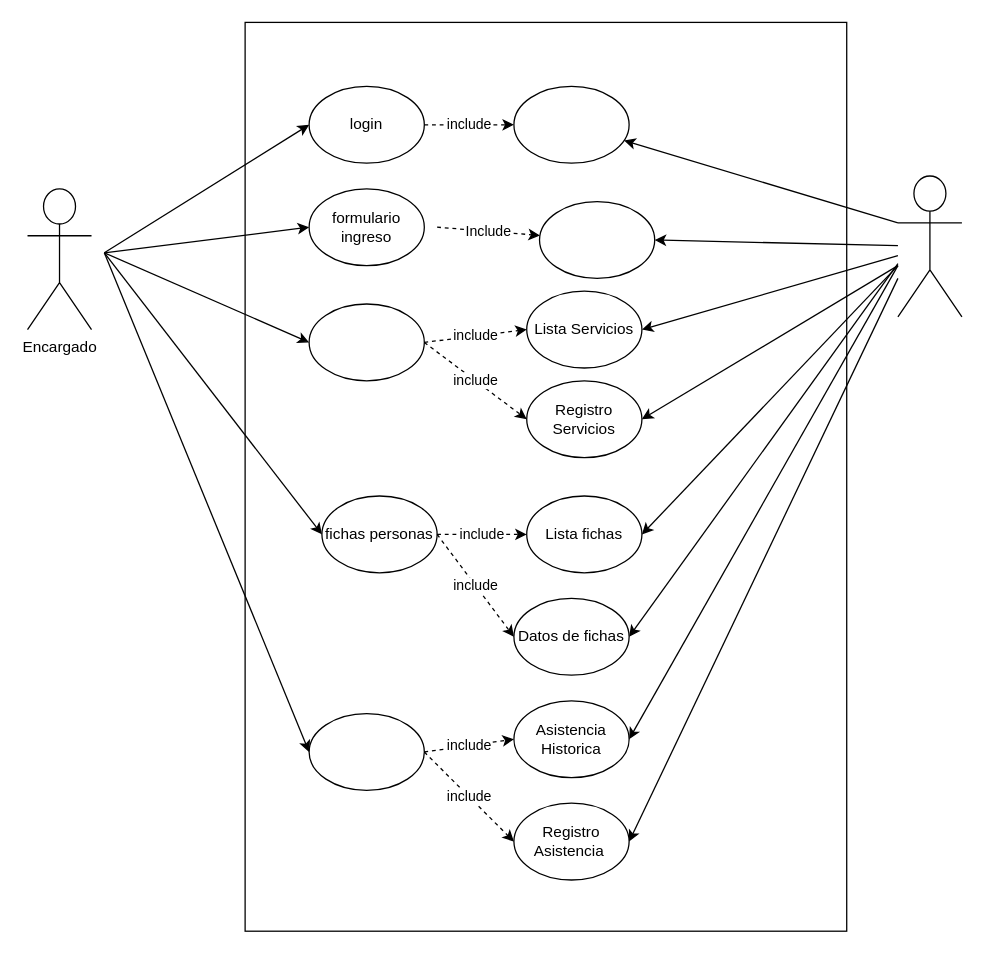
Some shapes in this 984 by 954 pixel diagram are drawn without their labels. Here are the shapes that lost their labels. From the top down, the centre of each, then its label:
(571,124): Ingresar Aplicación
(596,239): Añadir persona
(929,246): Sistema
(366,342): servicios
(366,751): Asistencia
